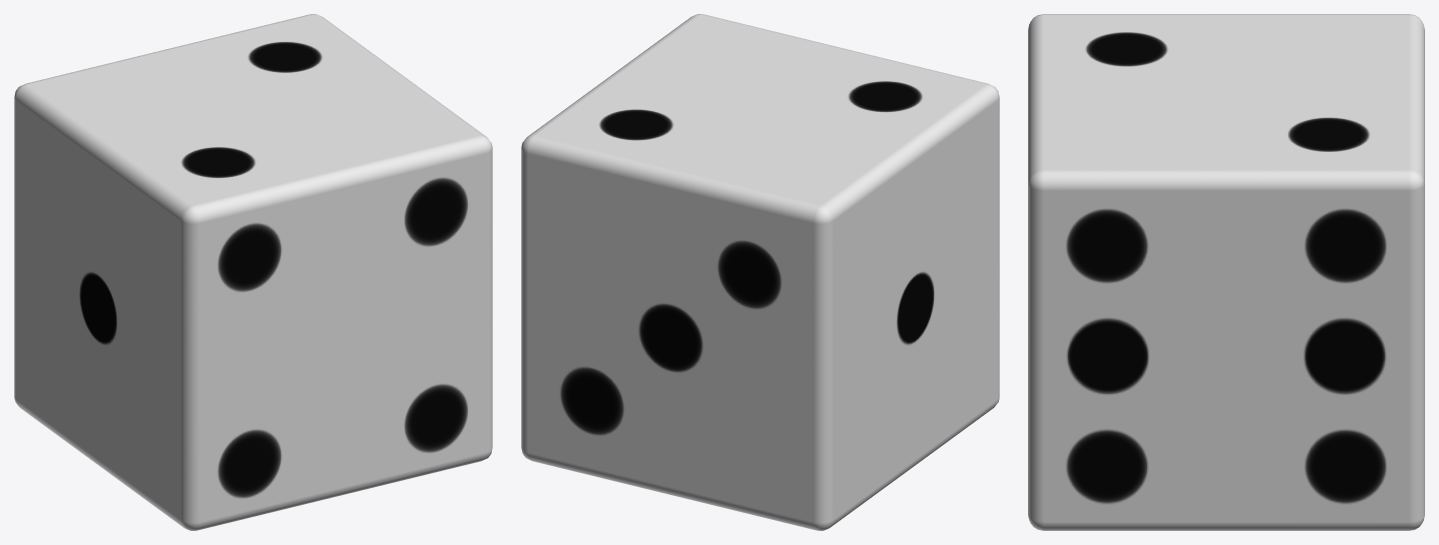
The model's file is die.glb.
The picture shows the model from 3 angles, left to right: view 1: azimuth 30°, elevation 25°; view 2: azimuth 150°, elevation 25°; view 3: azimuth 270°, elevation 25°; orthographic projection. The views are drawn at different scales.
Parts seen in each view (by area): view 1: Cube_0; view 2: Cube_0; view 3: Cube_0.
Boxes of the visible parts, x1,y1,x2,y2 form: Cube_0: (14, 14, 492, 530); Cube_0: (521, 14, 999, 530); Cube_0: (1028, 14, 1424, 530).
Bounding box in the file's own units: 0.0295 × 0.0295 × 0.0295.
Materials: 1 (1 with a texture image).
